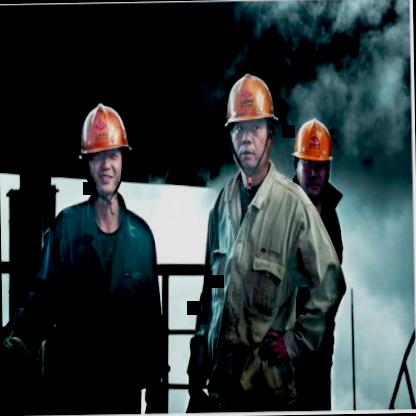helmet: (216, 64, 280, 181), (79, 92, 137, 204), (287, 109, 338, 200)
